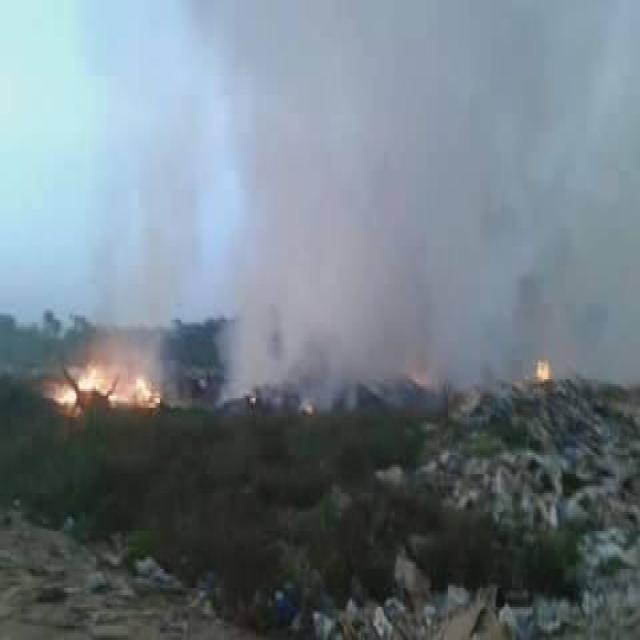Fire: (78, 362, 152, 403)
Smoke: (254, 220, 384, 384)
